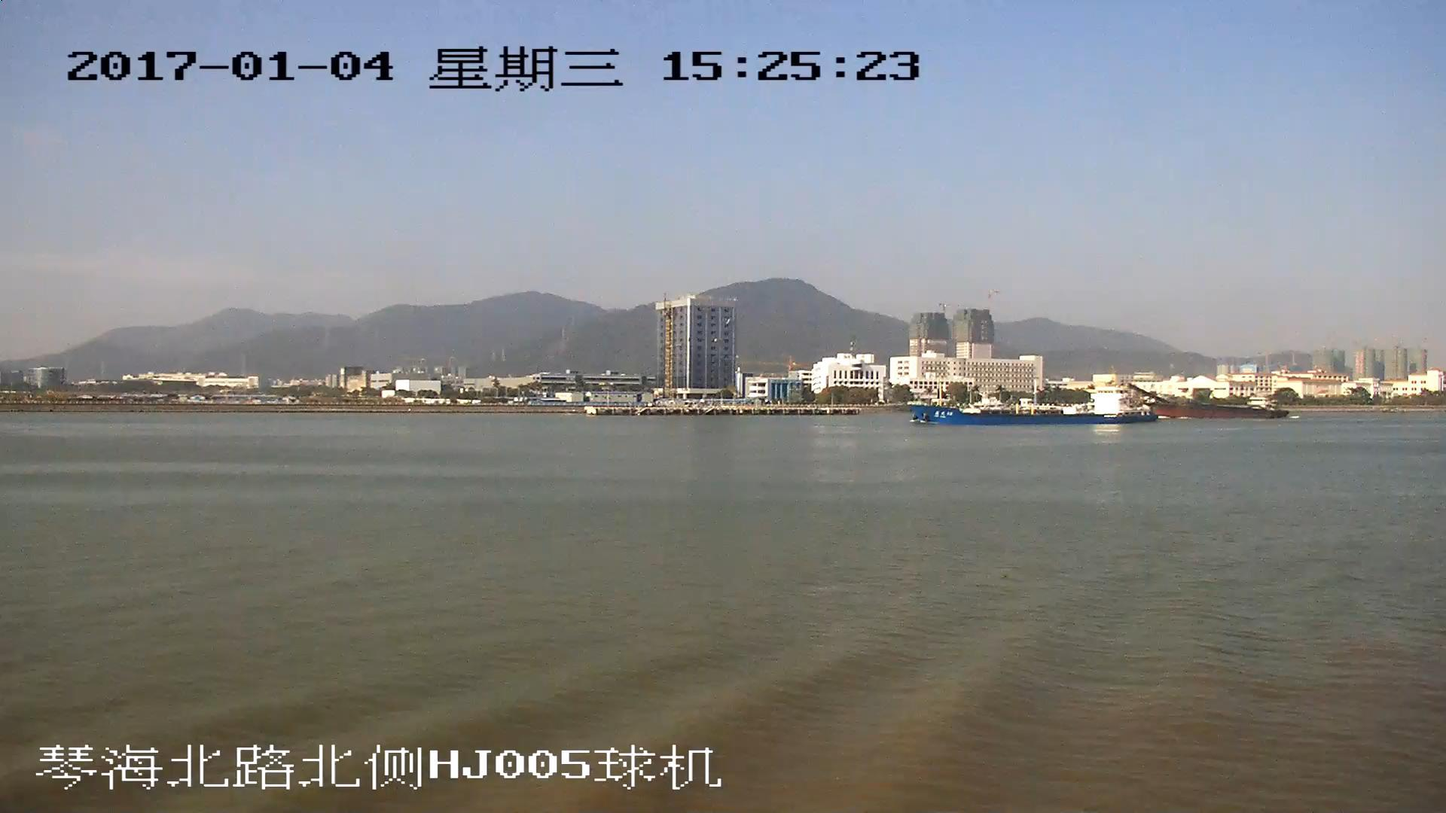bulk cargo carrier: (1132, 385, 1288, 416)
general cargo ship: (917, 388, 1152, 426)
